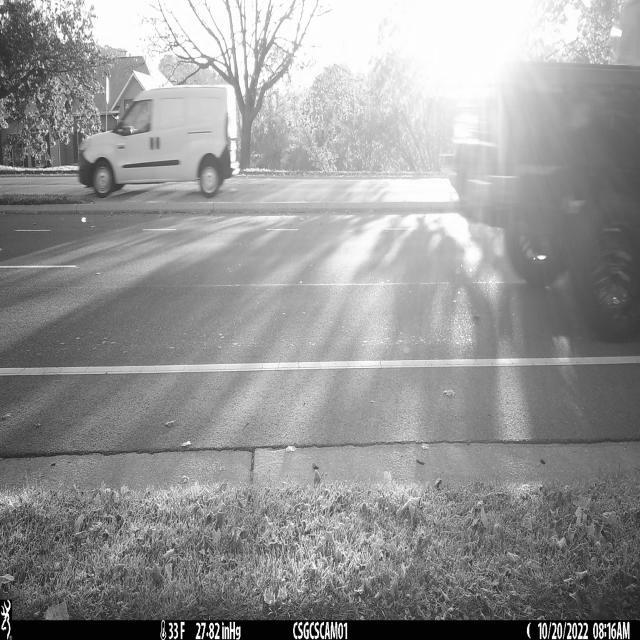Van: (78, 84, 240, 199)
